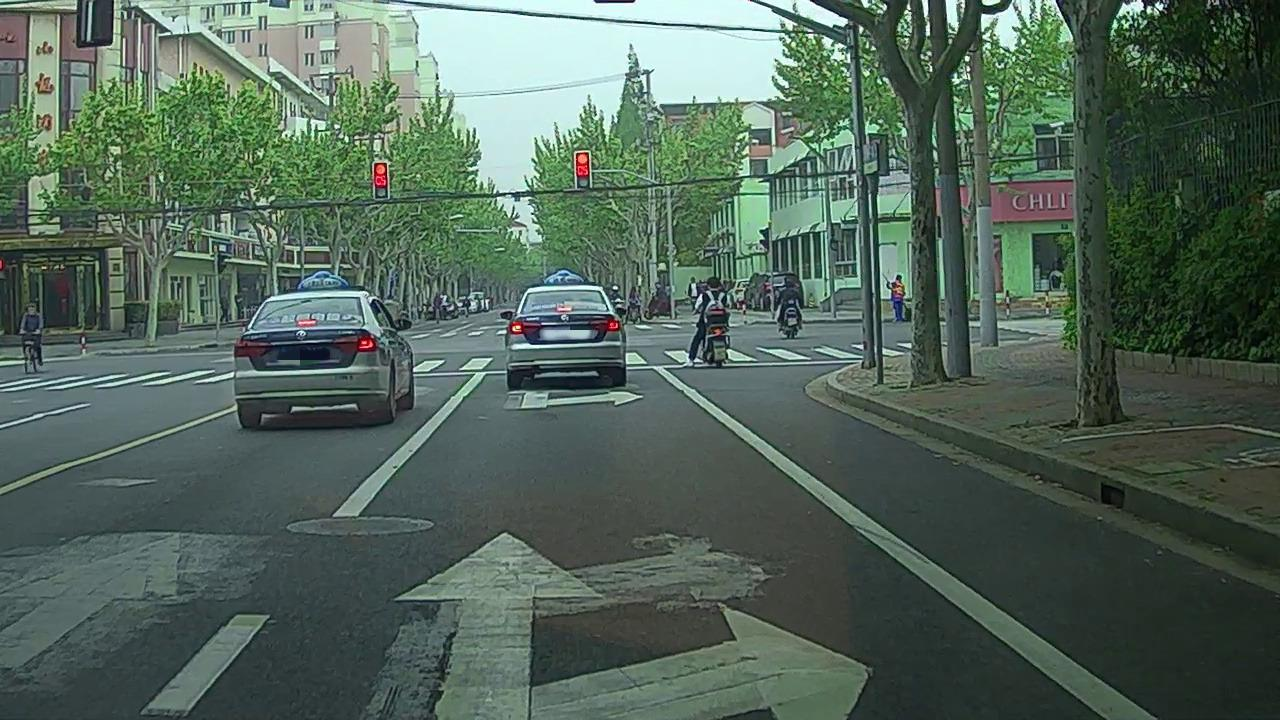traffic_light: (575, 153, 591, 187), (374, 161, 388, 199)
